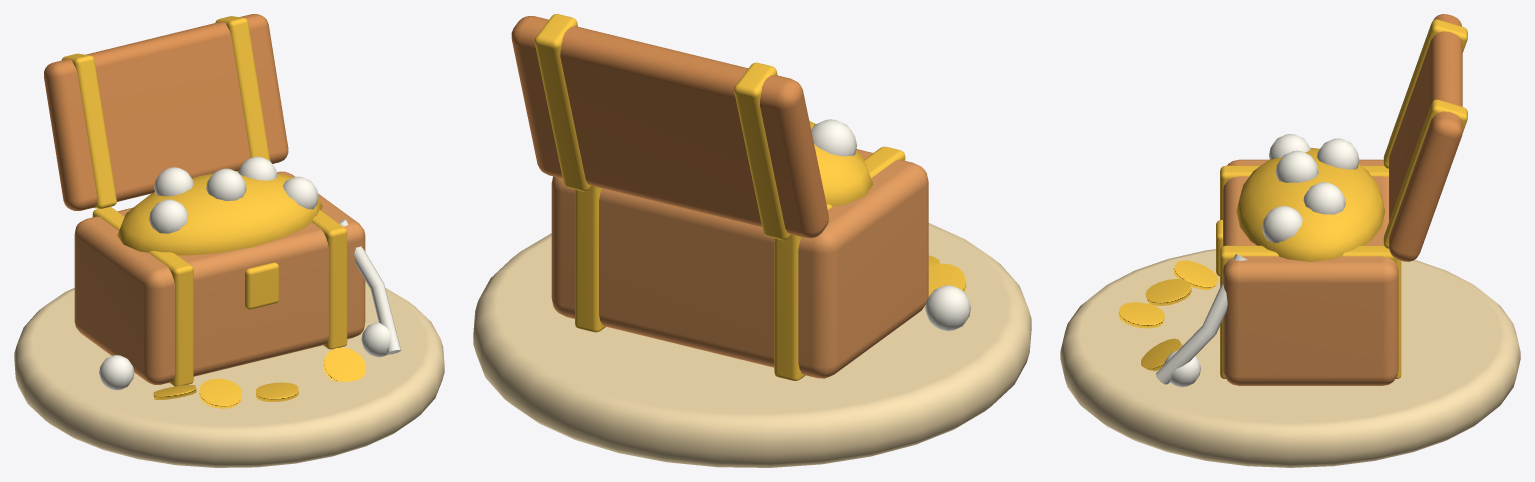
File: DecorChest.fbx
3 views of the same model, side by side, from view 1: azimuth 30°, elevation 25°; view 2: azimuth 150°, elevation 25°; view 3: azimuth 270°, elevation 25° (orthographic). The views are drawn at different scales.
Visible parts, largest first — view 1: DecorChest mesh; view 2: DecorChest mesh; view 3: DecorChest mesh.
Part boxes in pixels (x1,y1,x2,y2): DecorChest mesh: (14,14,444,467); DecorChest mesh: (473,14,1031,467); DecorChest mesh: (1060,14,1520,467).
Bounding box in the file's own units: 0.34 × 0.2563 × 0.34.
